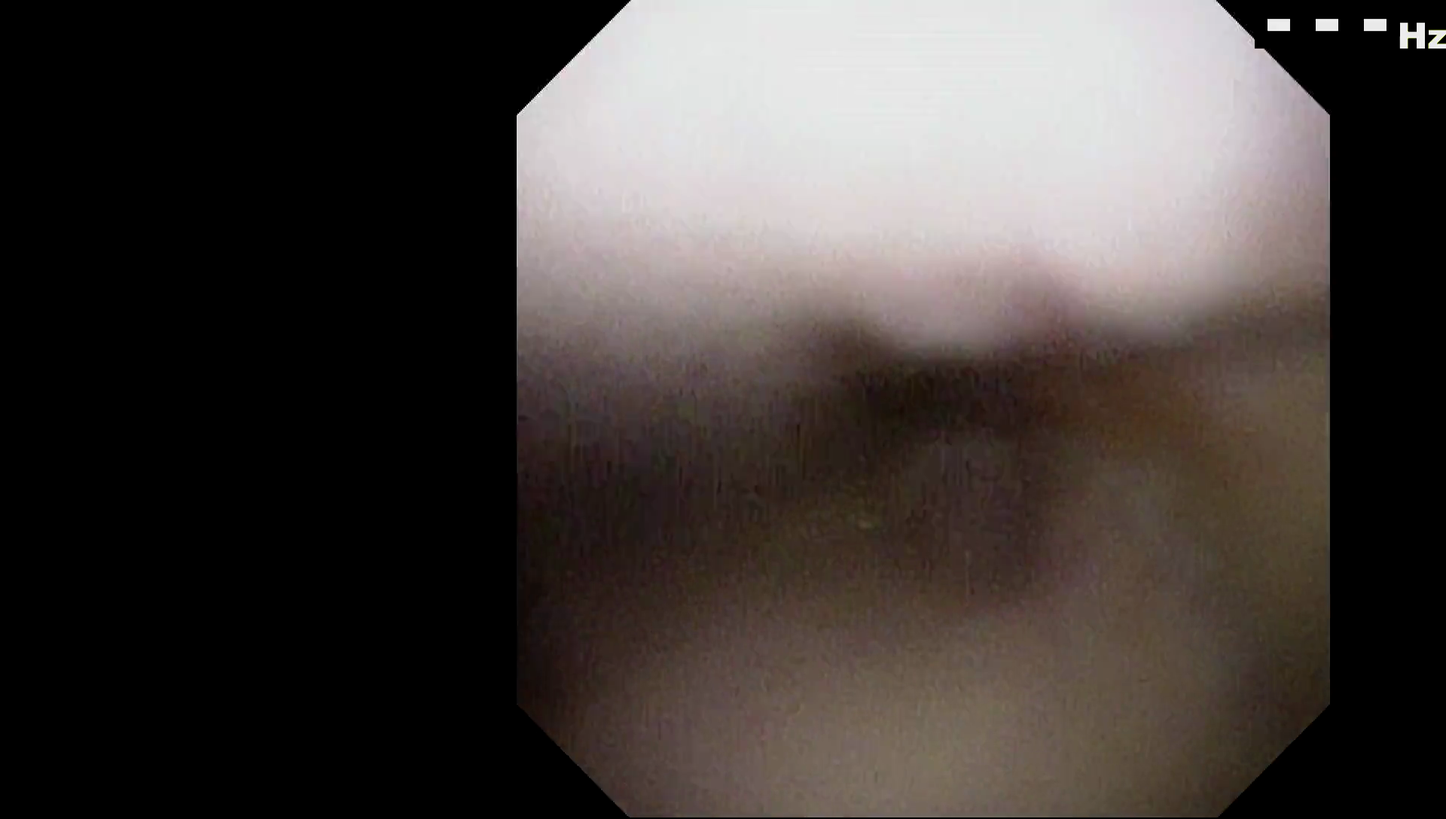close_wall: (523, 20, 1308, 407)
next: (751, 340, 1090, 508)
